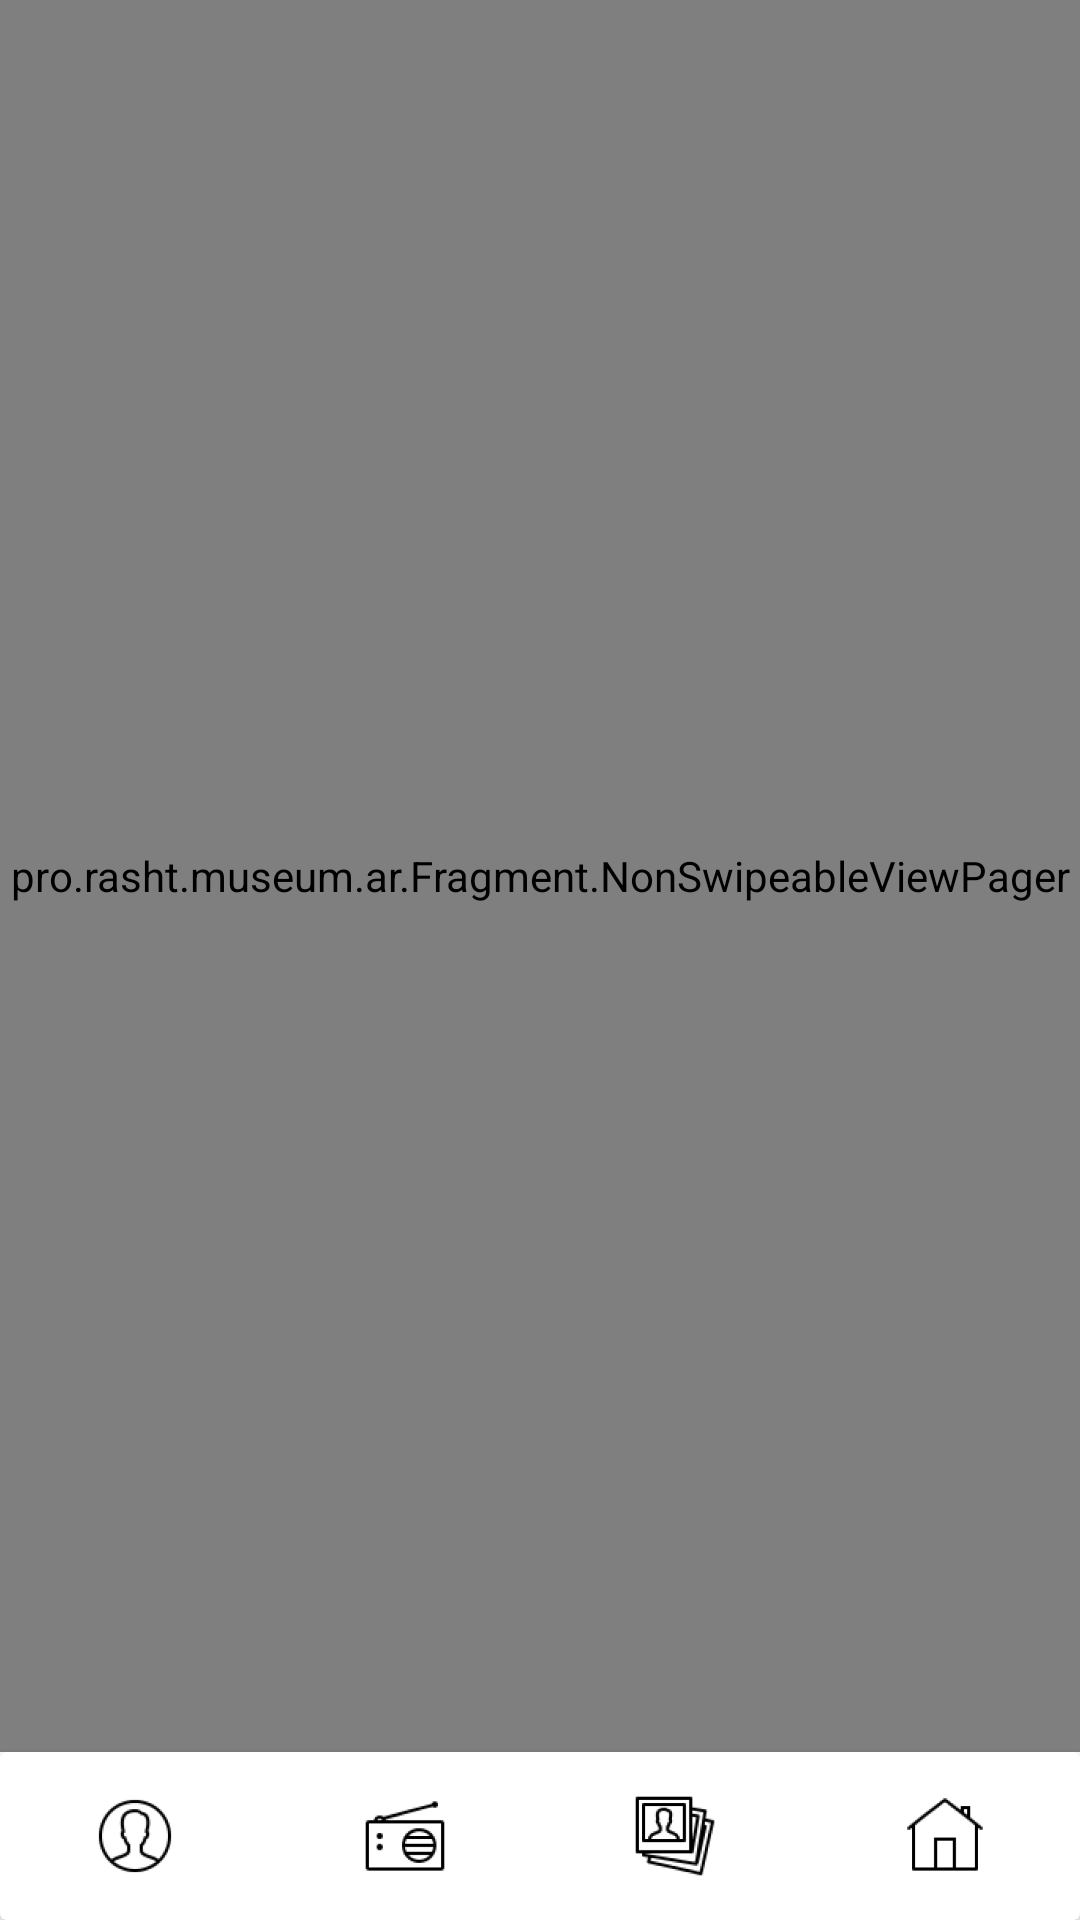

Where icons sit on this 1080 × 1920 app screen, as (x1, y1, x2, y2):
gallery: (635, 1796, 715, 1876)
home: (907, 1798, 983, 1871)
profile: (99, 1800, 171, 1873)
radio: (365, 1801, 445, 1871)
